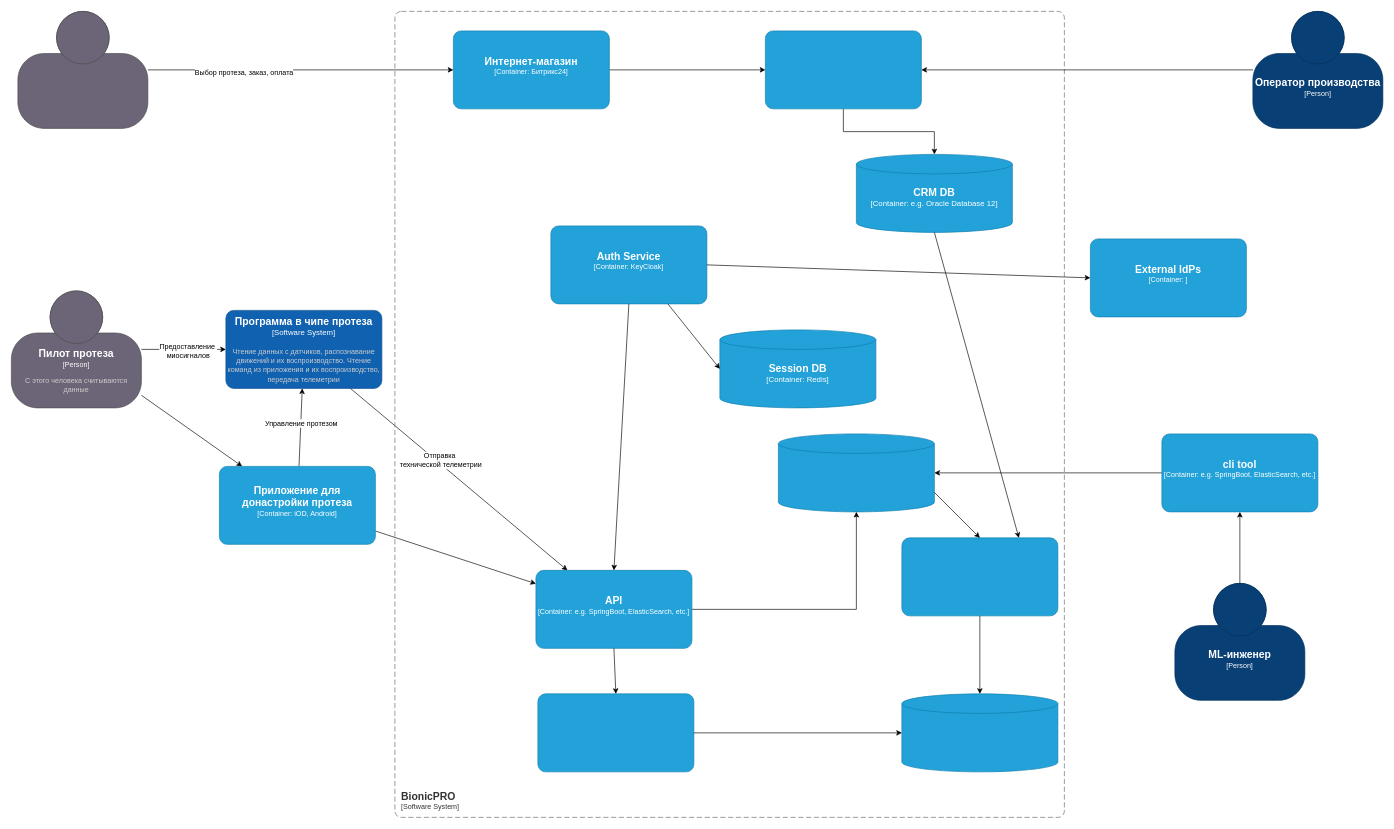
This 1394x829 diagram has some shape labels left out. Each missing label, with the centre of its shape:
"Airflow [Container: ]" belongs at point (979, 576).
"CRM [Container: Битрикс24]" belongs at point (843, 69).
"Reports Service [Container: e.g. SpringBoot, ElasticSearch, etc.]" belongs at point (615, 732).
"Telemetry DB [Container: ClickHouse]" belongs at point (979, 732).
"База данных [Container: PostgreSQL]" belongs at point (856, 472).
"Покупатель протеза [Person]" belongs at point (82, 69).
